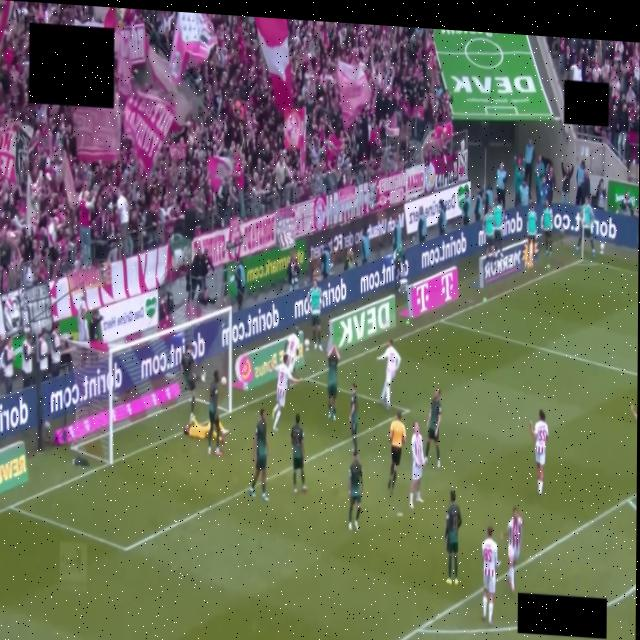player: (273, 355, 301, 431), (481, 526, 499, 625), (249, 409, 268, 501), (377, 339, 400, 409), (529, 410, 548, 494), (444, 490, 460, 585), (506, 507, 522, 592), (409, 422, 424, 508), (290, 413, 306, 493), (180, 344, 196, 421), (208, 370, 222, 455), (425, 389, 440, 467), (348, 450, 362, 530), (326, 346, 339, 420), (284, 329, 299, 373), (183, 416, 210, 439), (349, 384, 357, 451), (630, 405, 636, 420)
referee: (388, 411, 405, 494)
